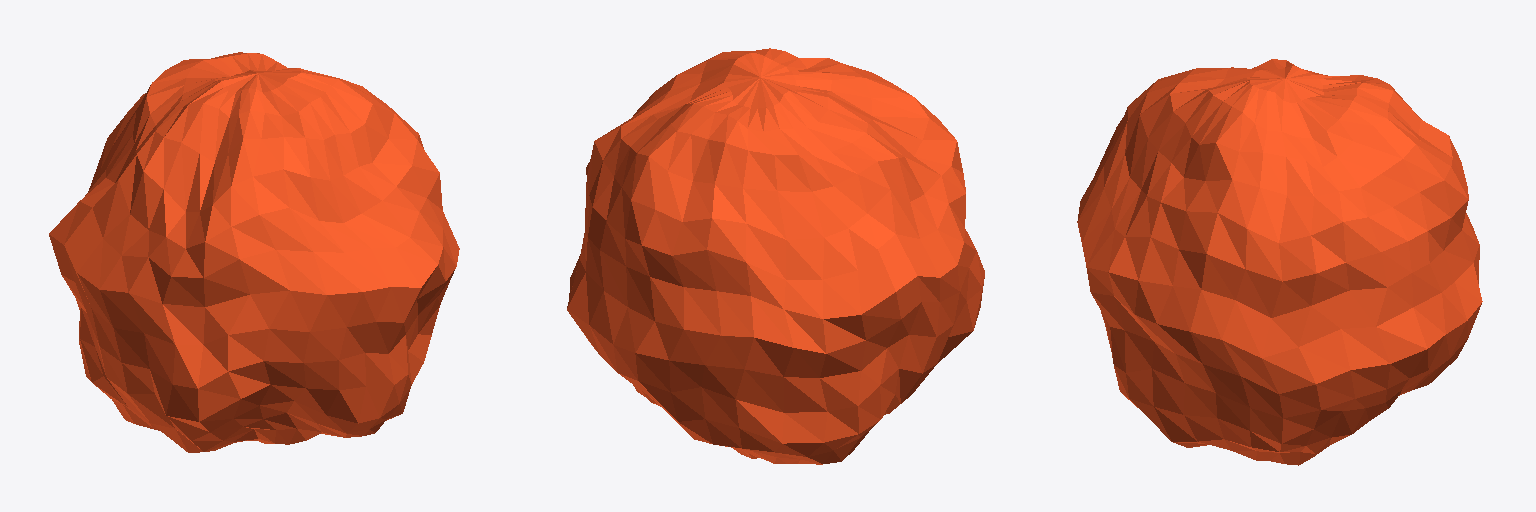
Rendered from robotexplode2.obj.
3 renders of one model, left to right at view 1: azimuth 30°, elevation 25°; view 2: azimuth 150°, elevation 25°; view 3: azimuth 270°, elevation 25°, orthographic.
Visible parts, largest first — view 1: Sphere01; view 2: Sphere01; view 3: Sphere01.
Boxes of the visible parts, x1=… form: Sphere01: x1=49, y1=52, x2=459, y2=452; Sphere01: x1=567, y1=48, x2=984, y2=464; Sphere01: x1=1077, y1=59, x2=1482, y2=465.
Size of the model in its own units: 89.18 by 90.19 by 89.18.